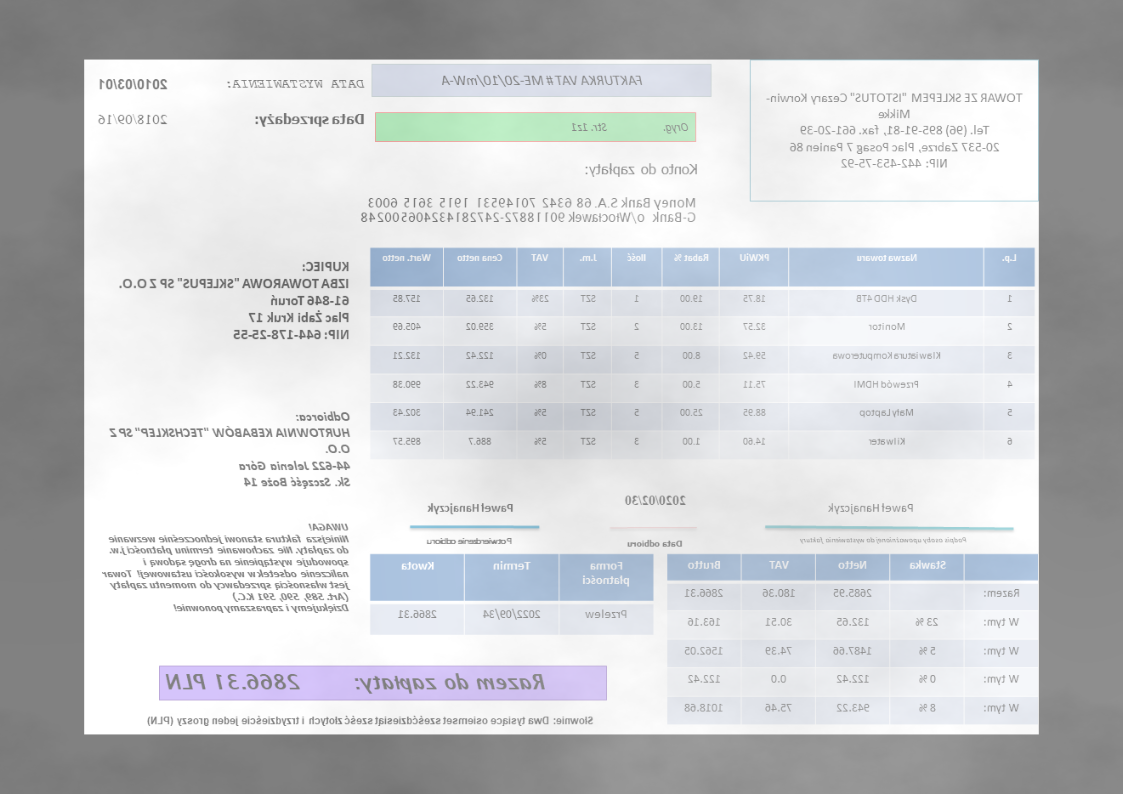Table: (369, 245, 1037, 461), (666, 553, 1038, 726), (369, 553, 655, 636)
TextBox: (98, 519, 350, 615), (765, 91, 1024, 170), (109, 407, 353, 490), (117, 257, 352, 343), (162, 668, 548, 697), (358, 196, 699, 224), (145, 712, 596, 730), (438, 72, 644, 89), (224, 75, 366, 93), (799, 534, 970, 547), (584, 161, 700, 179), (253, 111, 366, 129), (570, 121, 690, 135), (426, 500, 516, 518), (826, 498, 916, 515), (94, 111, 169, 128), (99, 76, 171, 93), (424, 535, 515, 547), (624, 492, 688, 509), (626, 537, 685, 549)
